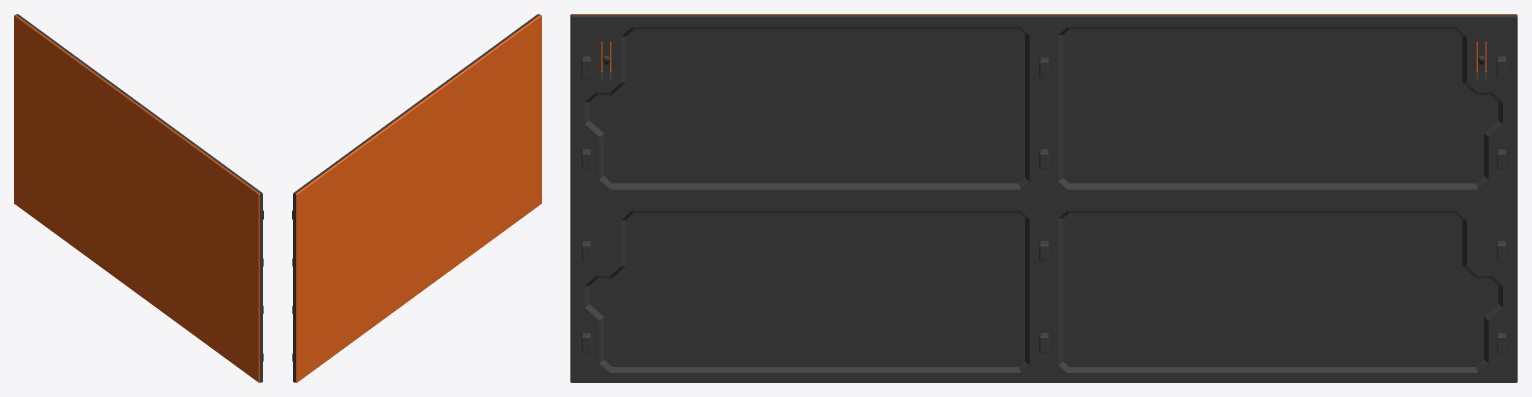
Rendered from SideCover_270-2H.lib.glb.
3 renders of one model, left to right at view 1: azimuth 30°, elevation 25°; view 2: azimuth 150°, elevation 25°; view 3: azimuth 270°, elevation 25°, orthographic. The views are drawn at different scales.
Visible parts, largest first — view 1: SideCover_270-2H; view 2: SideCover_270-2H; view 3: SideCover_270-2H.
Boxes of the visible parts, x1,y1,x2,y2 form: SideCover_270-2H: (14, 14, 263, 382); SideCover_270-2H: (292, 14, 541, 382); SideCover_270-2H: (570, 14, 1517, 382).
Size of the model in its own units: 5.05 by 112 by 262.
